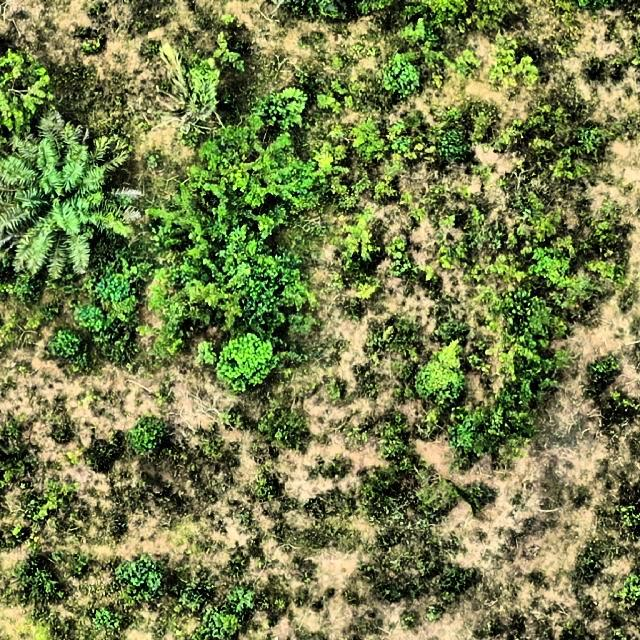Kelapa_Sawit: (0, 120, 130, 283)
